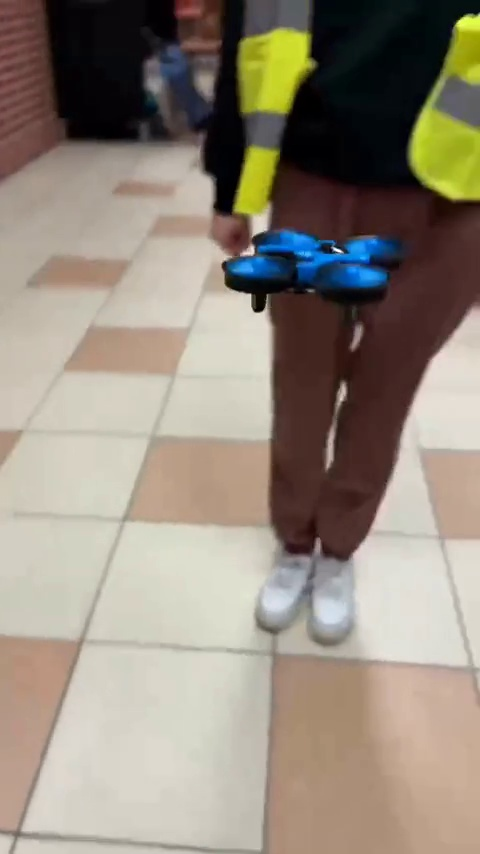drone: (216, 225, 396, 309)
